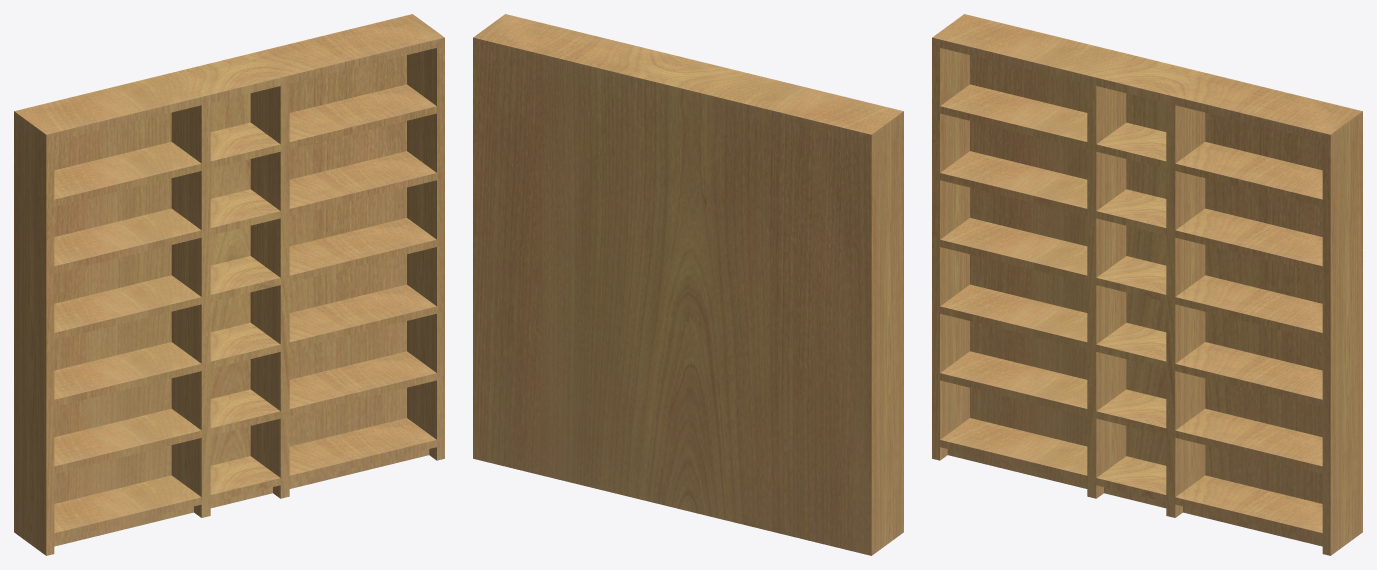
The model's file is IKEA-BILLY_bookcase_combination-3D.obj.
The picture shows the model from 3 angles, left to right: view 1: azimuth 30°, elevation 25°; view 2: azimuth 150°, elevation 25°; view 3: azimuth 330°, elevation 25°; orthographic projection.
Parts seen in each view (by area): view 1: Rectangle001, Line001, Rectangle007, Rectangle005, Rectangle003, Rectangle004, Rectangle002, Rectangle006, Rectangle008, Rectangle009, Rectangle010; view 2: Rectangle001, Line001, Rectangle008, Rectangle007, Rectangle009, Rectangle003, Rectangle004; view 3: Rectangle001, Line001, Rectangle007, Rectangle002, Rectangle006, Rectangle005, Rectangle003, Rectangle004, Rectangle008, Rectangle009, Rectangle010.
Part boxes in pixels (x1,y1,x2,y2): Rectangle001: [14, 14, 413, 533]; Line001: [14, 14, 444, 555]; Rectangle007: [54, 418, 436, 540]; Rectangle005: [54, 284, 436, 406]; Rectangle003: [54, 151, 436, 273]; Rectangle004: [54, 218, 436, 340]; Rectangle002: [54, 84, 436, 206]; Rectangle006: [54, 351, 436, 473]; Rectangle008: [171, 103, 210, 517]; Rectangle009: [250, 84, 289, 498]; Rectangle010: [54, 449, 429, 546]; Rectangle001: [473, 36, 873, 554]; Line001: [473, 14, 903, 555]; Rectangle008: [707, 103, 716, 491]; Rectangle007: [481, 441, 863, 539]; Rectangle009: [628, 84, 637, 498]; Rectangle003: [481, 173, 861, 270]; Rectangle004: [481, 244, 861, 337]; Rectangle001: [962, 14, 1362, 527]; Line001: [932, 14, 1362, 555]; Rectangle007: [940, 418, 1322, 540]; Rectangle002: [940, 84, 1322, 206]; Rectangle006: [940, 351, 1322, 473]; Rectangle005: [940, 284, 1322, 406]; Rectangle003: [940, 151, 1322, 273]; Rectangle004: [940, 218, 1322, 340]; Rectangle008: [1087, 84, 1126, 498]; Rectangle009: [1166, 103, 1205, 517]; Rectangle010: [947, 449, 1322, 546].
Size of the model in its own units: 2000 by 2020 by 280.
